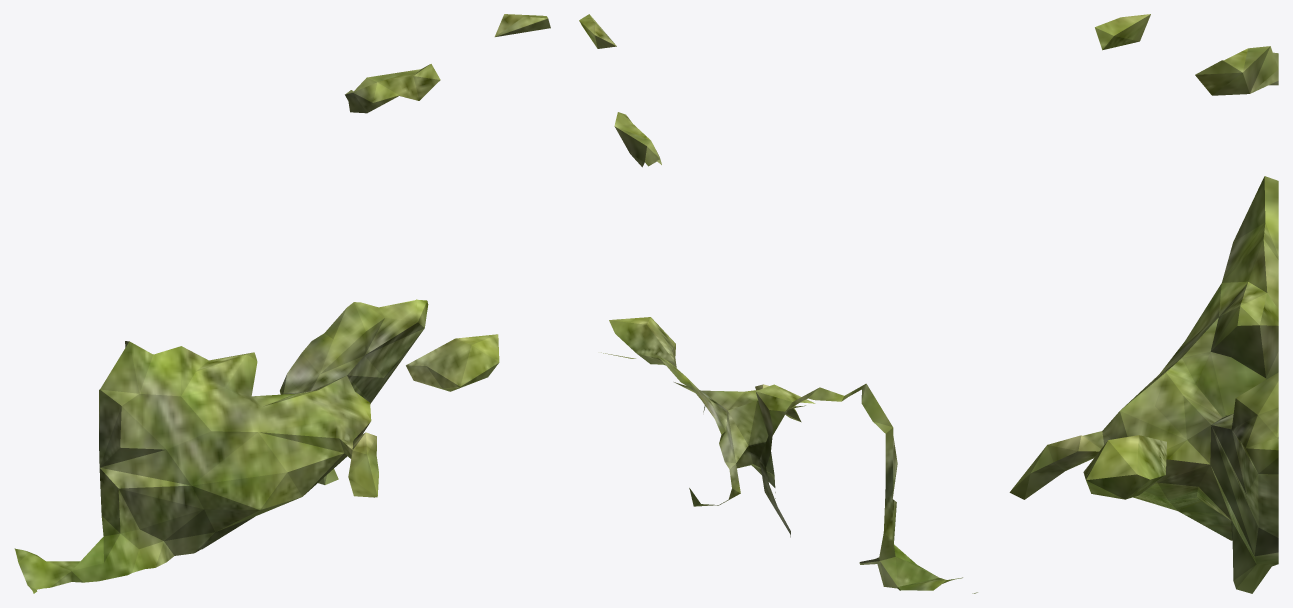
3 views of the same model, side by side, from view 1: azimuth 30°, elevation 25°; view 2: azimuth 150°, elevation 25°; view 3: azimuth 270°, elevation 25° (orthographic). The views are drawn at different scales.
Size of the model in its own units: 1.87 by 1.84 by 0.6128.
1 material, 1 textured.
